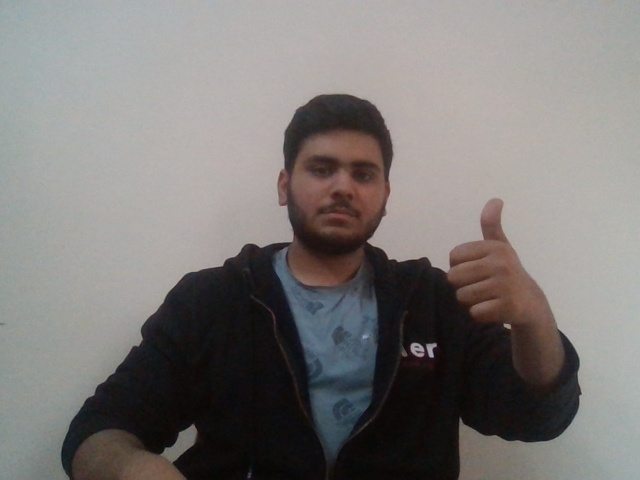Yes: (441, 194, 539, 340)
